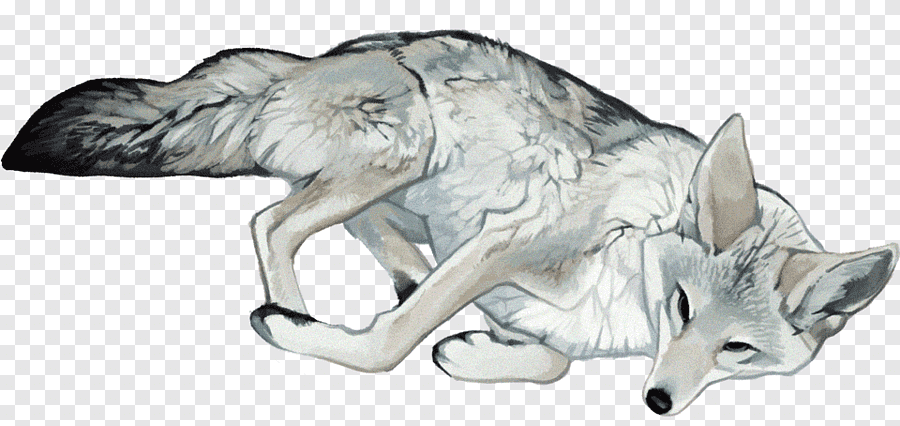Lobo: (13, 25, 870, 426)
